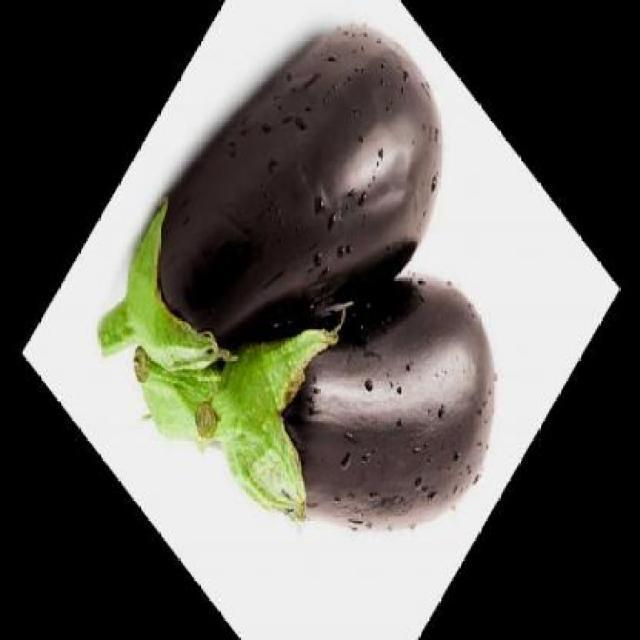eggplant: (80, 0, 478, 548), (183, 271, 489, 530)
